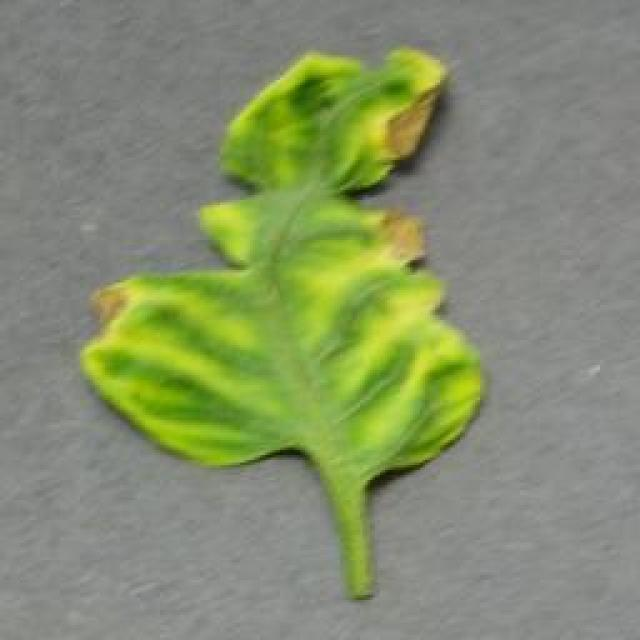Tom_Yellow_Leaf_Curl_Virus: (112, 65, 476, 463)
